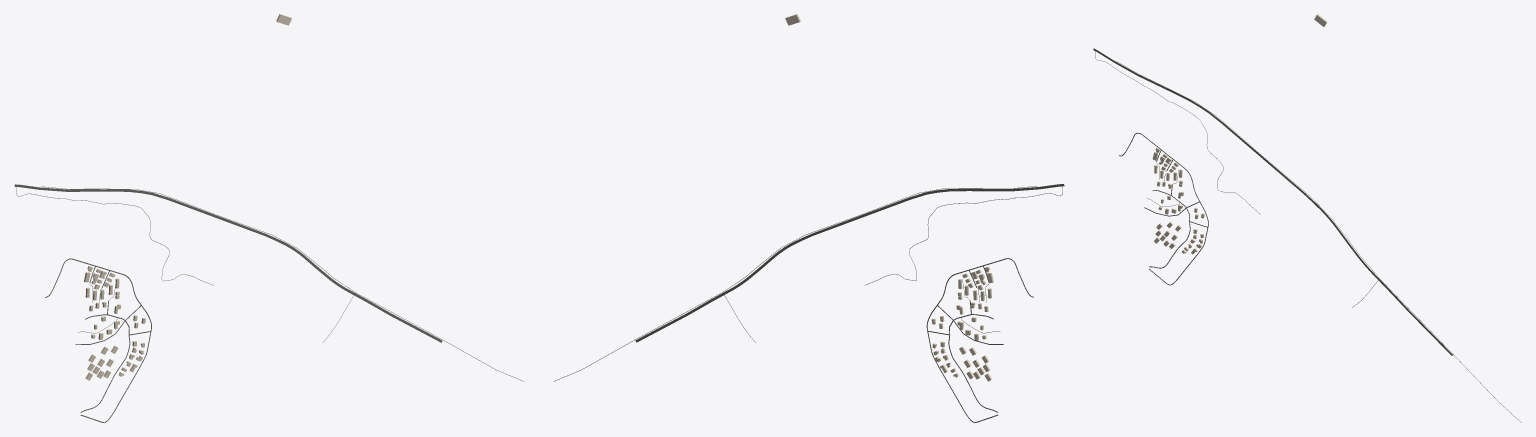
File: historic-palestine-08_26_3495_3206.glb
3 views of the same model, side by side, from view 1: azimuth 30°, elevation 25°; view 2: azimuth 150°, elevation 25°; view 3: azimuth 330°, elevation 25° (orthographic). The views are drawn at different scales.
Parts seen in each view (by area): view 1: Road 4711, Road .013; view 2: Road 4711, Road .013; view 3: Road 4711, Road .013.
Boxes of the visible parts, x1,y1,x2,y2 form: Road 4711: (14, 184, 442, 342); Road .013: (41, 186, 524, 381); Road 4711: (635, 184, 1064, 342); Road .013: (553, 186, 1037, 381); Road 4711: (1093, 48, 1452, 355); Road .013: (1116, 61, 1521, 422).
Size of the model in its own units: 1827 by 1459 by 8.7.
